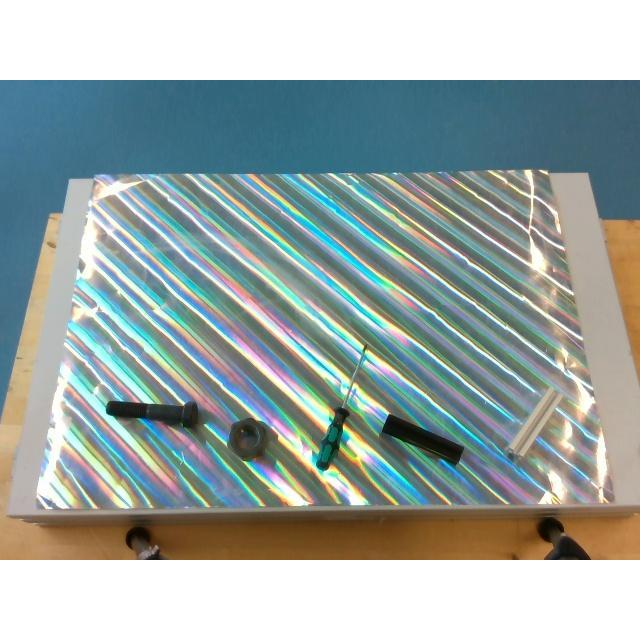F20_20_B: (381, 414, 464, 466)
F20_20_G: (508, 388, 562, 457)
M20_100: (106, 400, 198, 426)
M30: (228, 417, 268, 459)
Screwdriver: (314, 344, 366, 472)
